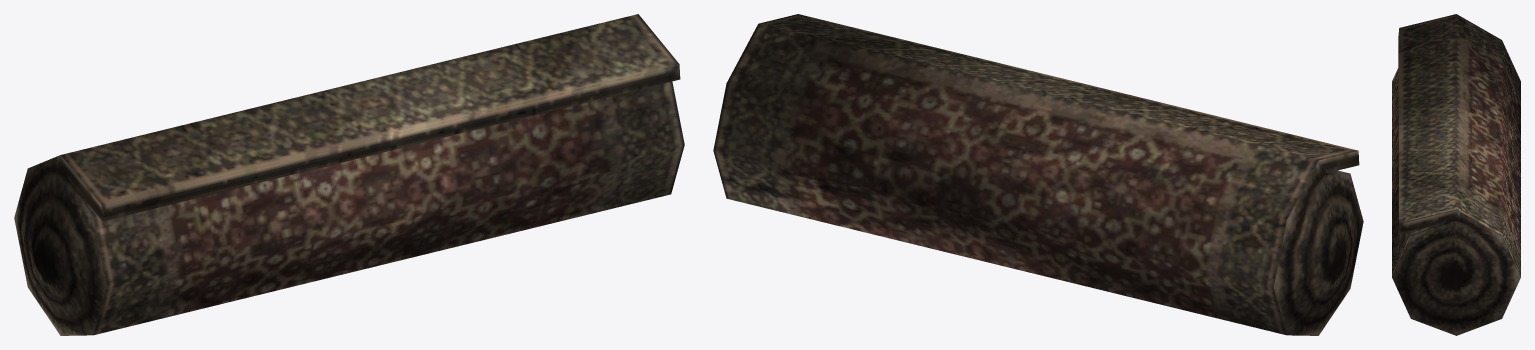
Rendered from rolled_up_carpet.dae.
The picture shows the model from 3 angles, left to right: view 1: azimuth 30°, elevation 25°; view 2: azimuth 150°, elevation 25°; view 3: azimuth 270°, elevation 25°; orthographic projection. The views are drawn at different scales.
Visible parts, largest first — view 1: pCylinder1; view 2: pCylinder1; view 3: pCylinder1.
Boxes of the visible parts, x1,y1,x2,y2 form: pCylinder1: [14, 14, 684, 335]; pCylinder1: [713, 14, 1363, 335]; pCylinder1: [1392, 14, 1520, 335].
Size of the model in its own units: 1.58 by 0.456 by 0.4235.
